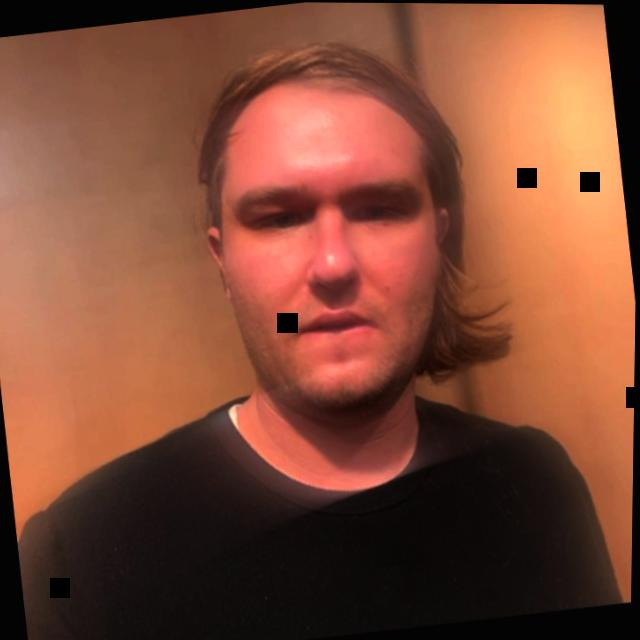NO-Mask: (165, 1, 563, 528)
